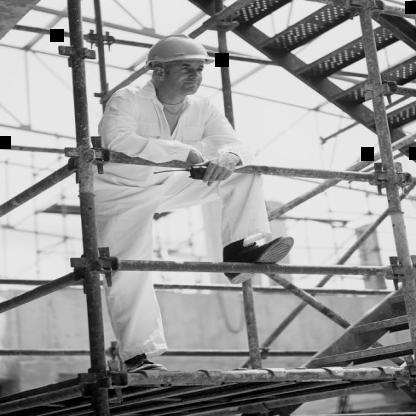helmet: (140, 29, 216, 104)
